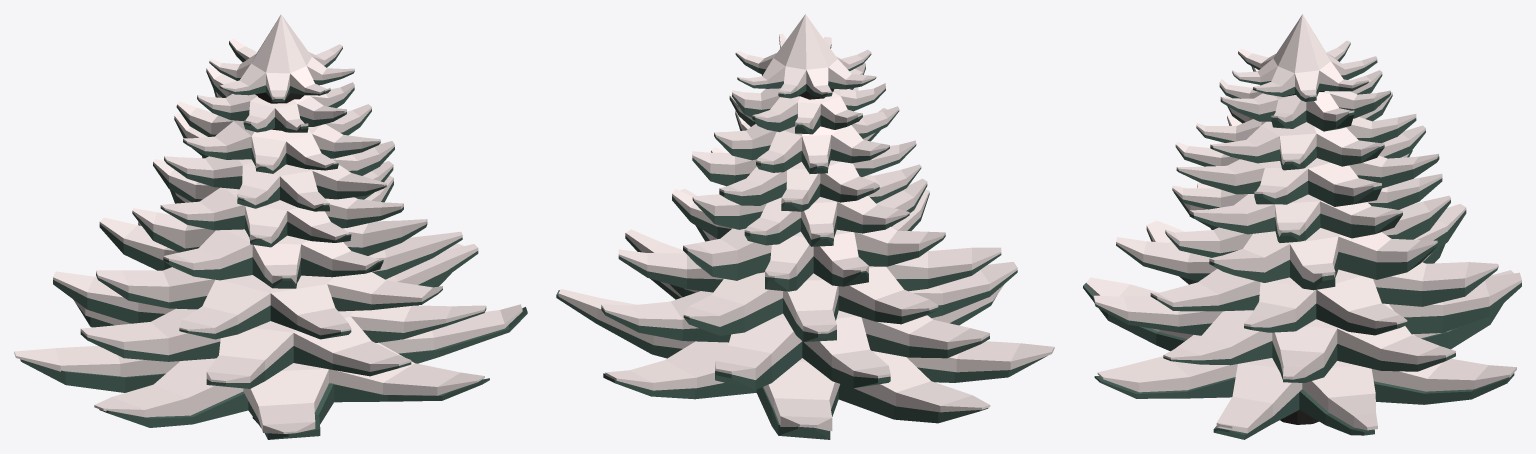
The model's file is VersionTwo_City.fbx.
3 views of the same model, side by side, from view 1: azimuth 30°, elevation 25°; view 2: azimuth 150°, elevation 25°; view 3: azimuth 270°, elevation 25° (orthographic).
Visible parts, largest first — view 1: Cube.122, Cube.124, Cube.126, Cube.128, Cube.121, Cube.130, Cube.132, Cube.134, Cube.138, Cube.123, Cube.125, Cube.136 (+6 smaller); view 2: Cube.122, Cube.124, Cube.126, Cube.128, Cube.121, Cube.123, Cube.132, Cube.130, Cube.138, Cube.134, Cube.125, Cube.127 (+6 smaller); view 3: Cube.122, Cube.124, Cube.126, Cube.128, Cube.132, Cube.121, Cube.130, Cube.134, Cube.138, Cube.123, Cube.125, Cube.127 (+6 smaller).
Part boxes in pixels (bbox=[...]): Cube.122: bbox=[14, 243, 522, 433]; Cube.124: bbox=[53, 222, 486, 382]; Cube.126: bbox=[96, 217, 462, 335]; Cube.128: bbox=[132, 175, 427, 283]; Cube.121: bbox=[20, 273, 527, 439]; Cube.130: bbox=[153, 159, 403, 243]; Cube.132: bbox=[164, 113, 394, 208]; Cube.134: bbox=[177, 92, 380, 170]; Cube.138: bbox=[209, 14, 354, 99]; Cube.123: bbox=[53, 222, 486, 388]; Cube.125: bbox=[96, 224, 462, 339]; Cube.136: bbox=[197, 66, 354, 130]; Cube.122: bbox=[558, 281, 1054, 430]; Cube.124: bbox=[601, 229, 1017, 379]; Cube.126: bbox=[618, 188, 1001, 333]; Cube.128: bbox=[672, 178, 945, 279]; Cube.121: bbox=[556, 278, 1046, 439]; Cube.123: bbox=[601, 236, 1017, 389]; Cube.132: bbox=[692, 108, 915, 204]; Cube.130: bbox=[692, 147, 921, 239]; Cube.138: bbox=[736, 14, 876, 94]; Cube.134: bbox=[714, 87, 899, 168]; Cube.125: bbox=[618, 193, 1001, 341]; Cube.127: bbox=[672, 184, 945, 291]; Cube.122: bbox=[1086, 270, 1516, 433]; Cube.124: bbox=[1093, 220, 1521, 379]; Cube.126: bbox=[1116, 182, 1498, 328]; Cube.128: bbox=[1165, 185, 1450, 282]; Cube.132: bbox=[1175, 114, 1438, 198]; Cube.121: bbox=[1083, 283, 1514, 439]; Cube.130: bbox=[1172, 153, 1442, 236]; Cube.134: bbox=[1196, 90, 1416, 164]; Cube.138: bbox=[1232, 14, 1377, 98]; Cube.123: bbox=[1093, 228, 1521, 382]; Cube.125: bbox=[1116, 185, 1498, 335]; Cube.127: bbox=[1165, 192, 1450, 290].
Bounding box in the file's own units: 1185 × 1018 × 1011.
